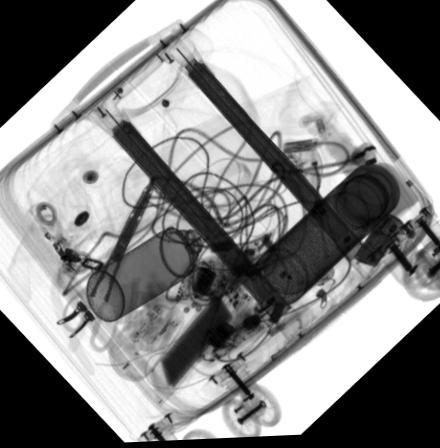Lighter: (353, 217, 404, 269)
Powerbank: (146, 274, 251, 403)
Scissors: (62, 172, 160, 355)
Sprayer: (85, 207, 221, 323)
